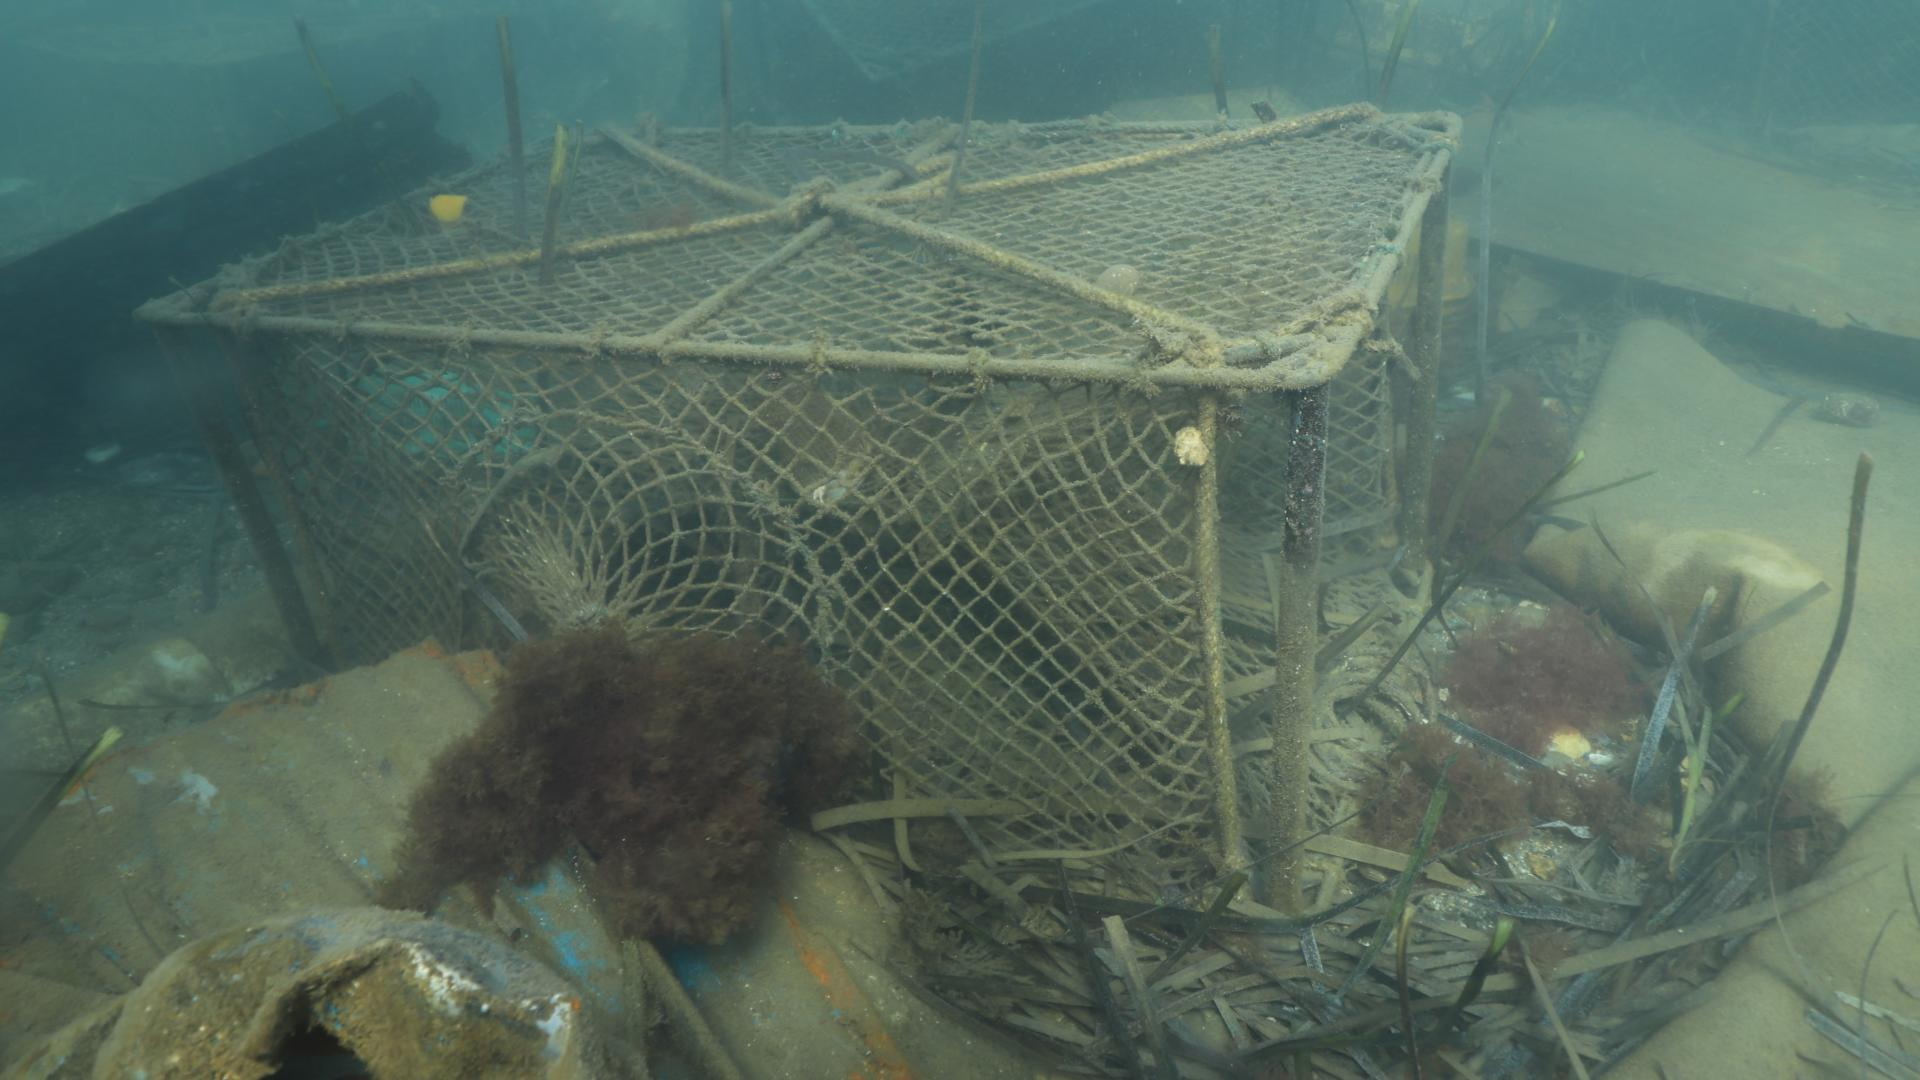rectangular fish trap: (131, 108, 1466, 918)
